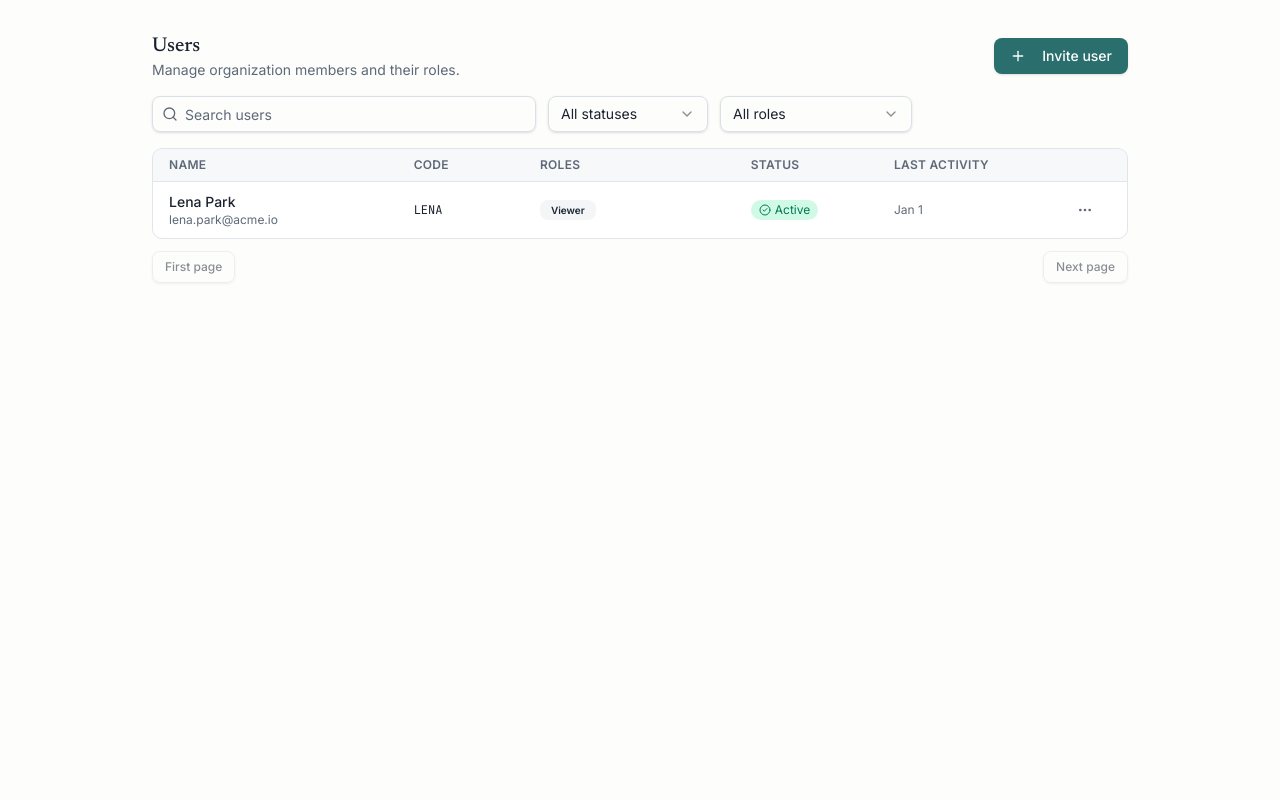
AdminUsers › sets a password without claiming email delivery or echoing the secret
expect the text "Lena Park" is shown: met, box [169,193,236,210]
Click the button named "Actions" at point(1085, 210), box [1071,196,1099,224]
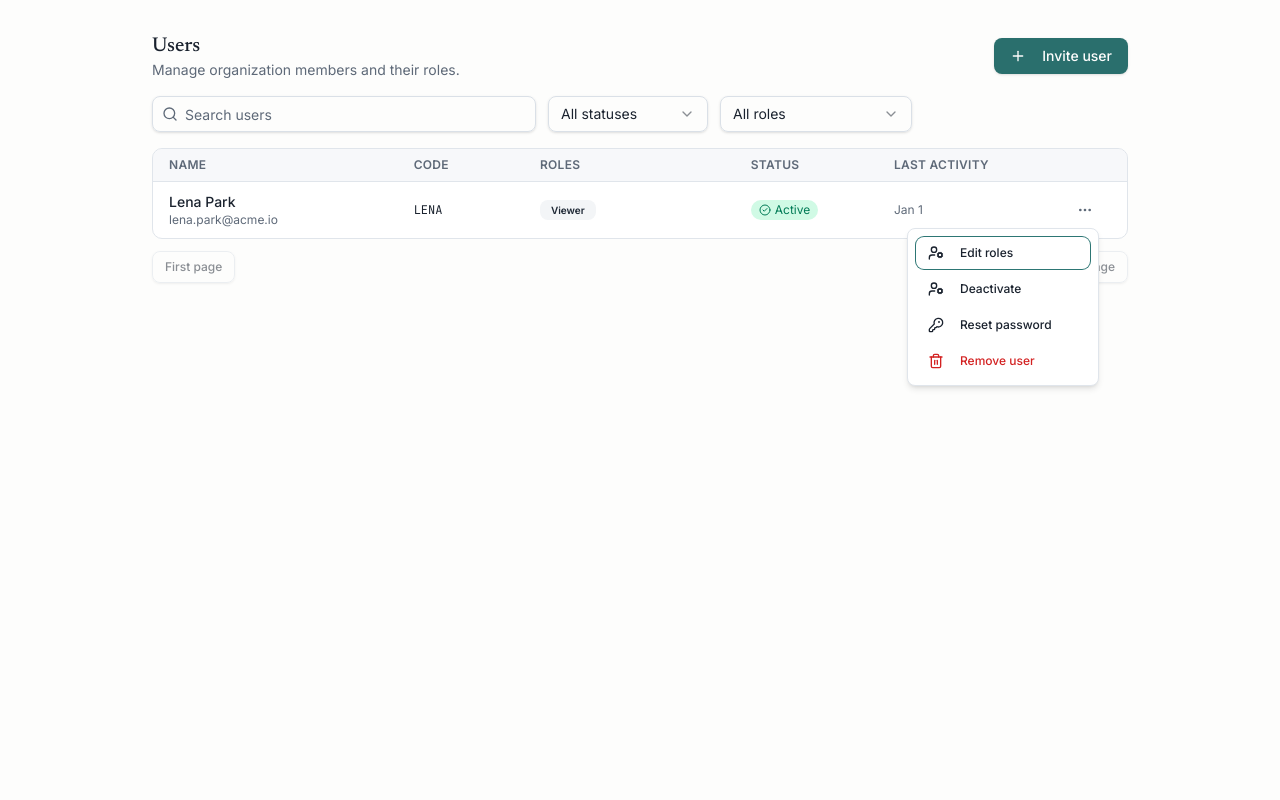
Click the button "Reset password" at point(1003, 325), box [916,309,1090,341]
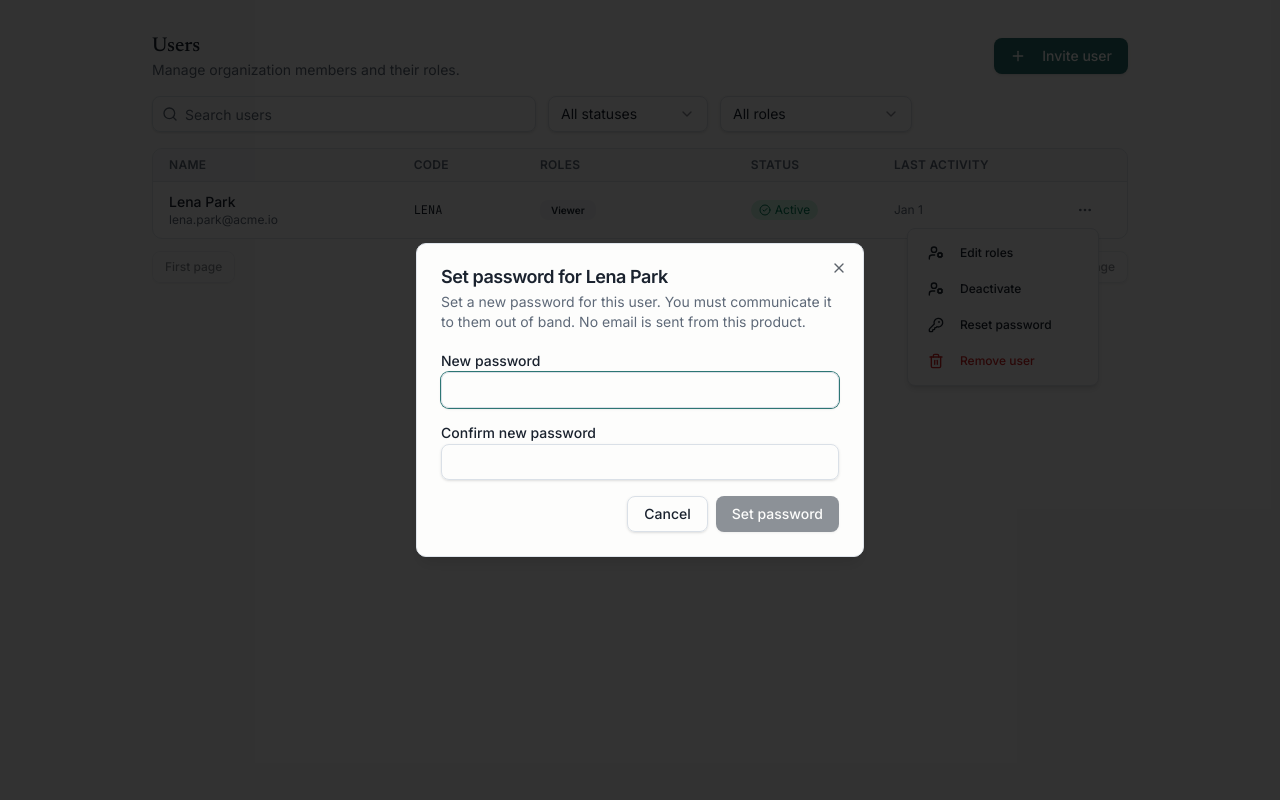
expect the text "out of band" is shown: met, box [441,293,832,330]
Type "NewSecretPass1!" into the password field labelled "New password" at point(640, 390), box [441,372,839,408]
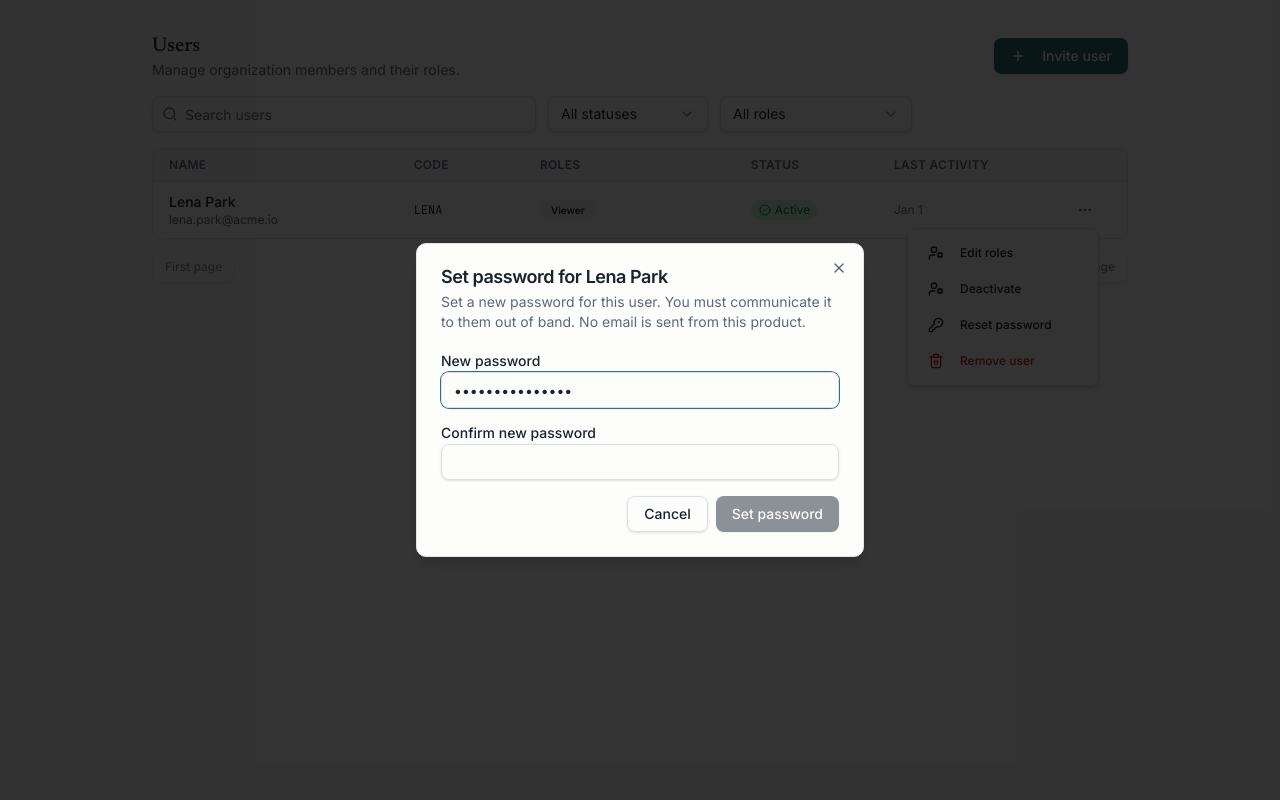
Type "NewSecretPass1!" into the password field labelled "Confirm new password" at point(640, 462), box [441,444,839,480]
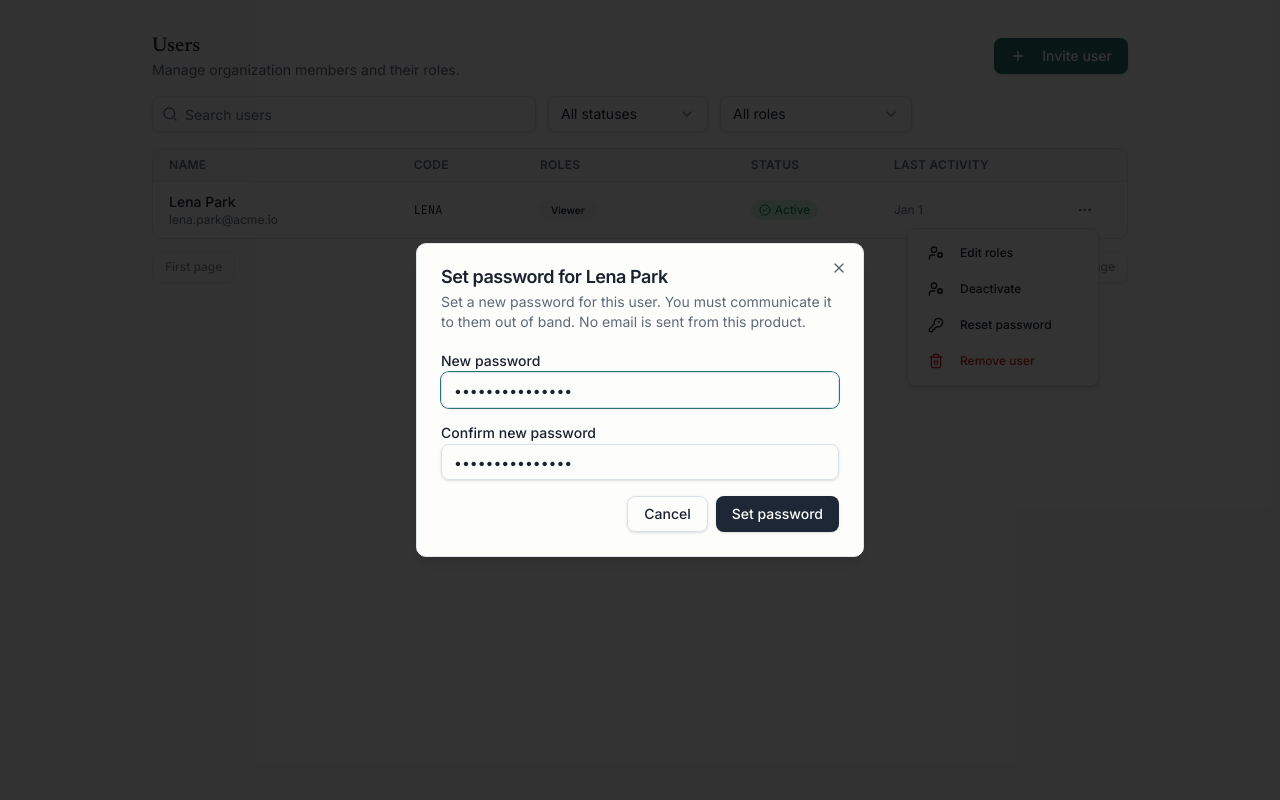
Click the button "Set password" at point(777, 514), box [716,496,839,532]
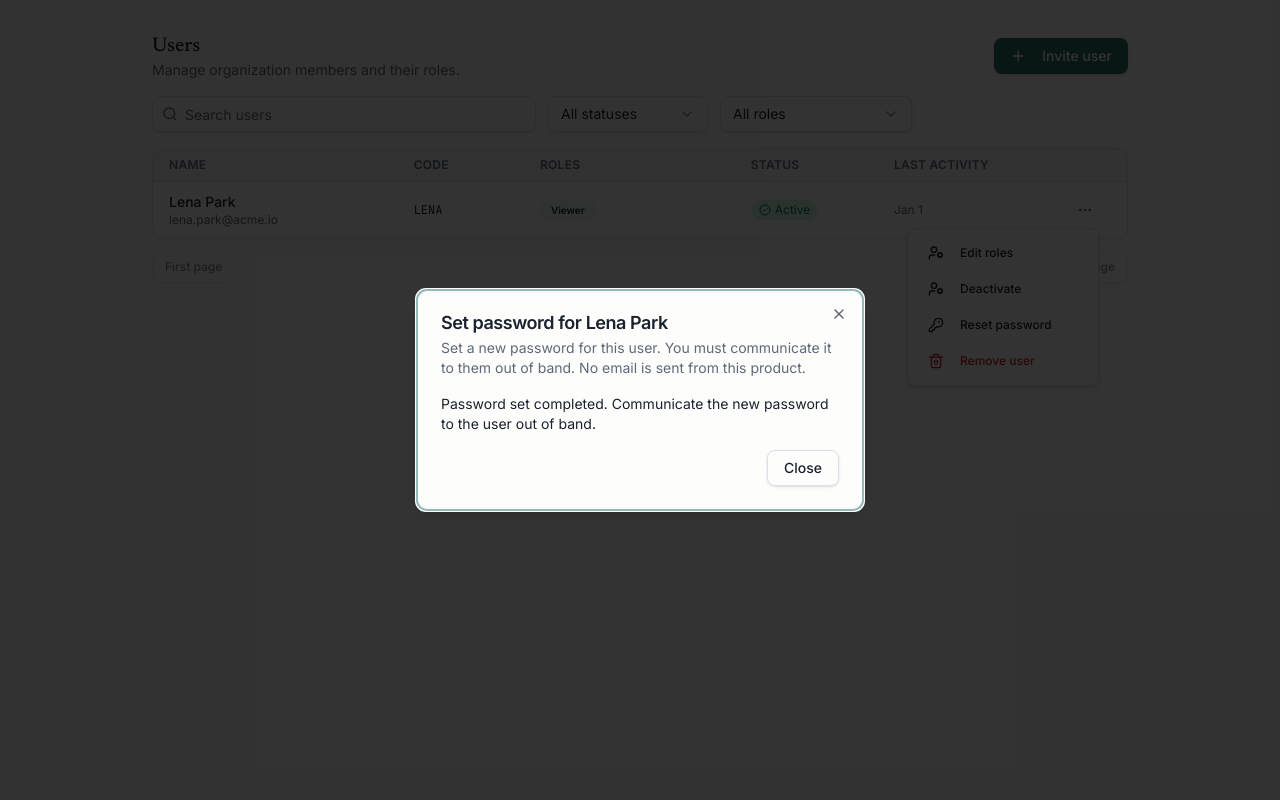
expect the text "Password set completed. Communicate the new password to the user out of band." is shown: met, box [441,394,839,434]
